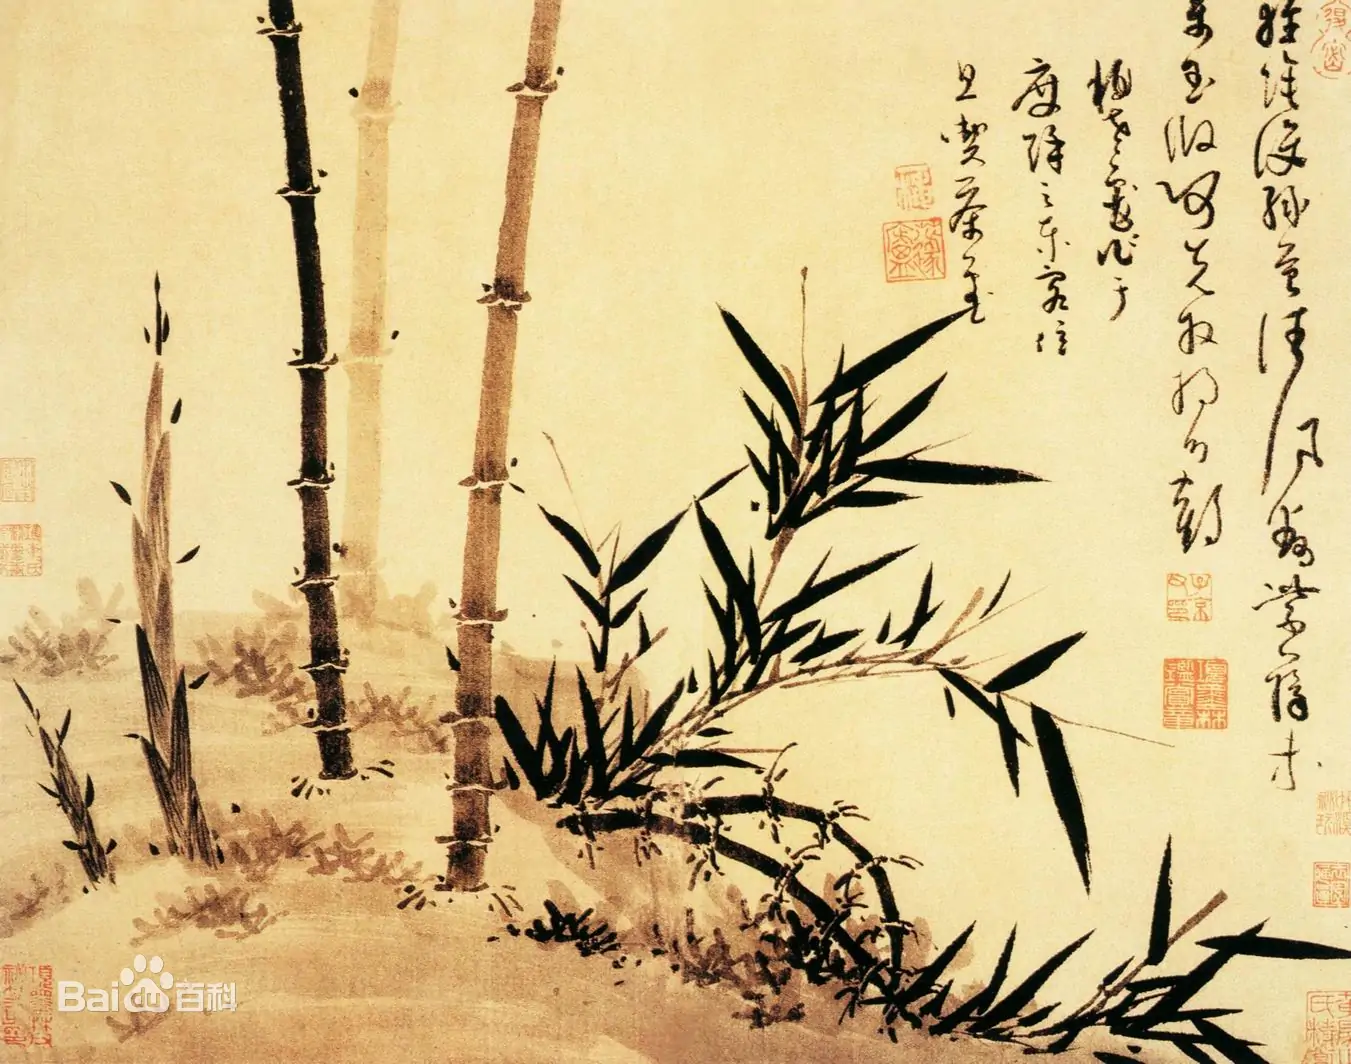bamboo: (555, 259, 1162, 882), (574, 781, 1351, 1064), (242, 5, 424, 810), (71, 273, 282, 882), (447, 1, 575, 925), (4, 684, 124, 904)
